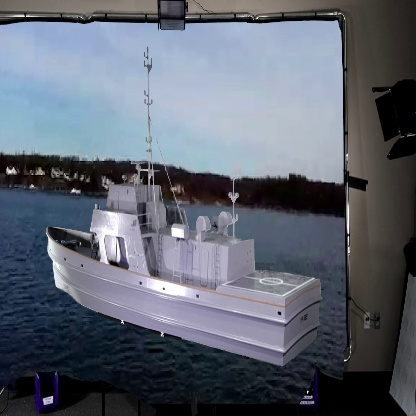YP689: (46, 46, 319, 371)
